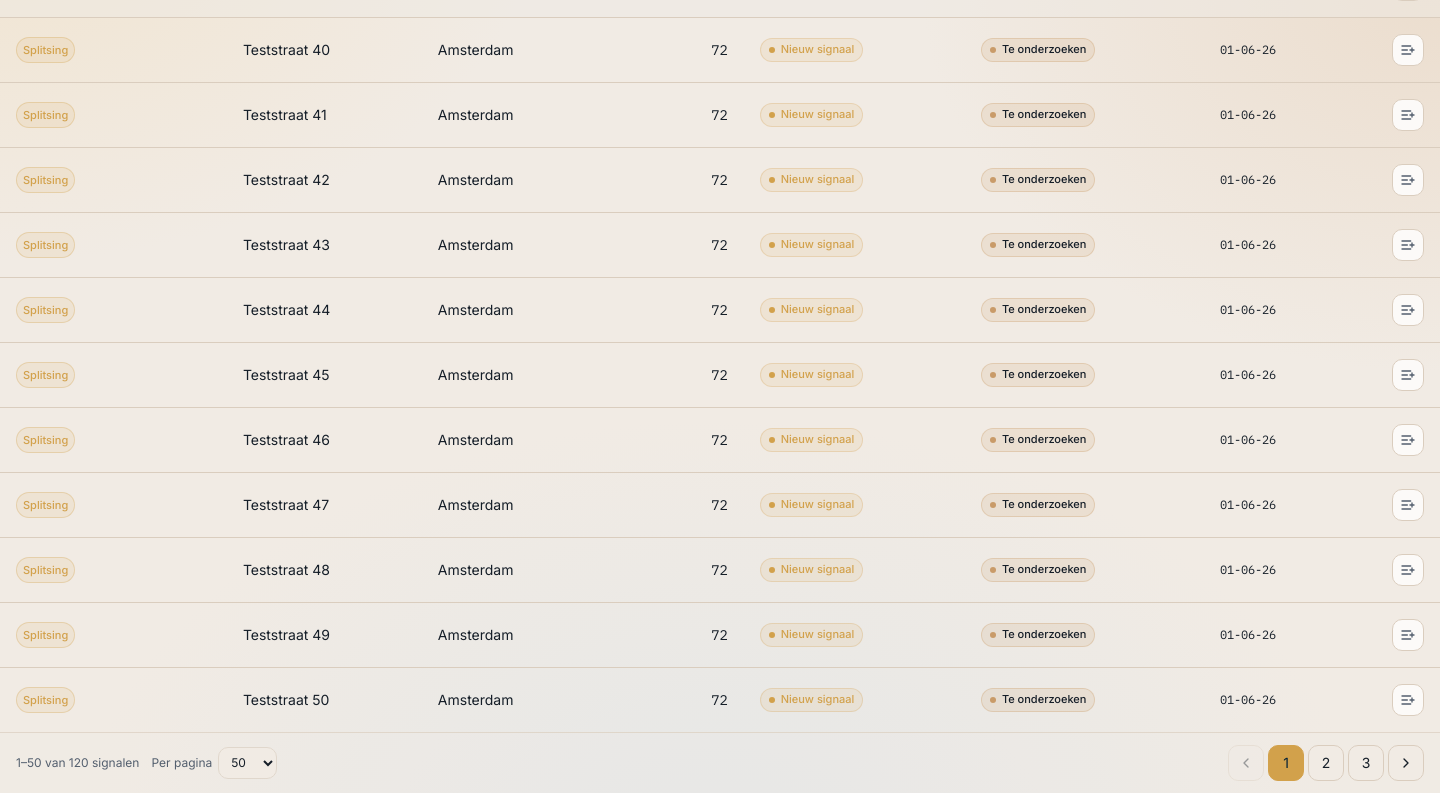
Test: SignalenTable — paginering › toont standaard maximaal 50 signalen en navigeert naar pagina 2
(page scrolled)
Expected: the row named "Signaal 50" is shown, [0,667,1439,732]
Expected: the text "1–50 van 120 signalen" is shown, [16,754,139,770]
Click the button named "Pagina 2". click: x=1326, y=762
box: [1308,744,1344,780]
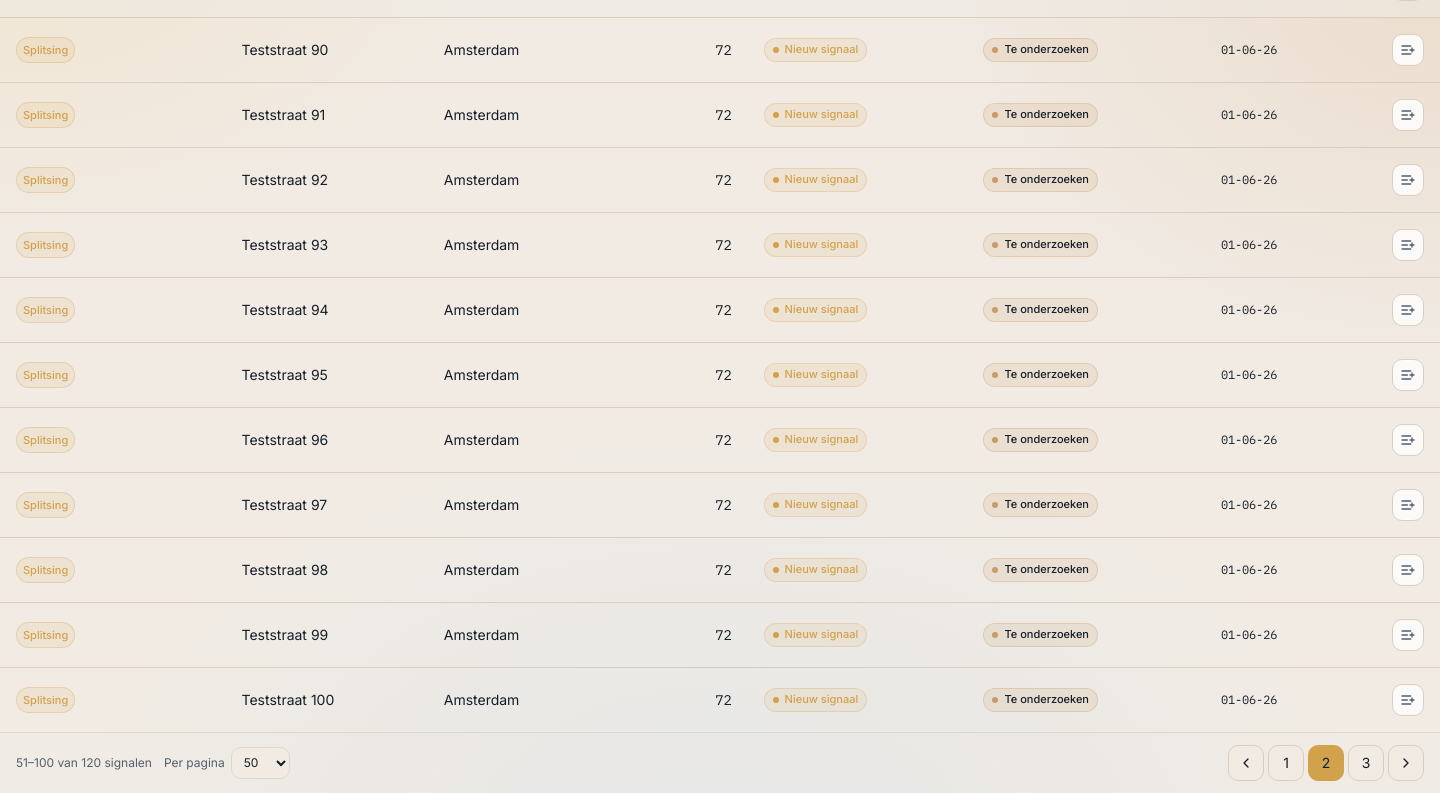
Expected: the row named "Signaal 100" is shown, [0,667,1439,732]
Now the text "51–100 van 120 signalen" is shown, box [16,754,152,770]
